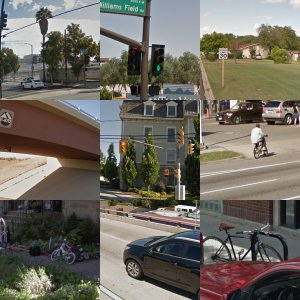汽車: (99, 55, 197, 100), (15, 216, 97, 267)
紅綠燈: (121, 199, 184, 245), (207, 229, 272, 265)
行人穿越道: (201, 153, 282, 202)
